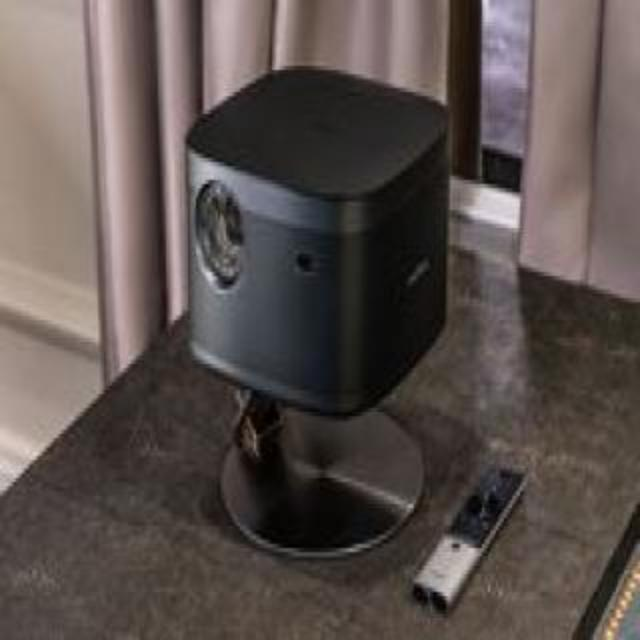Projector: (188, 68, 448, 564)
